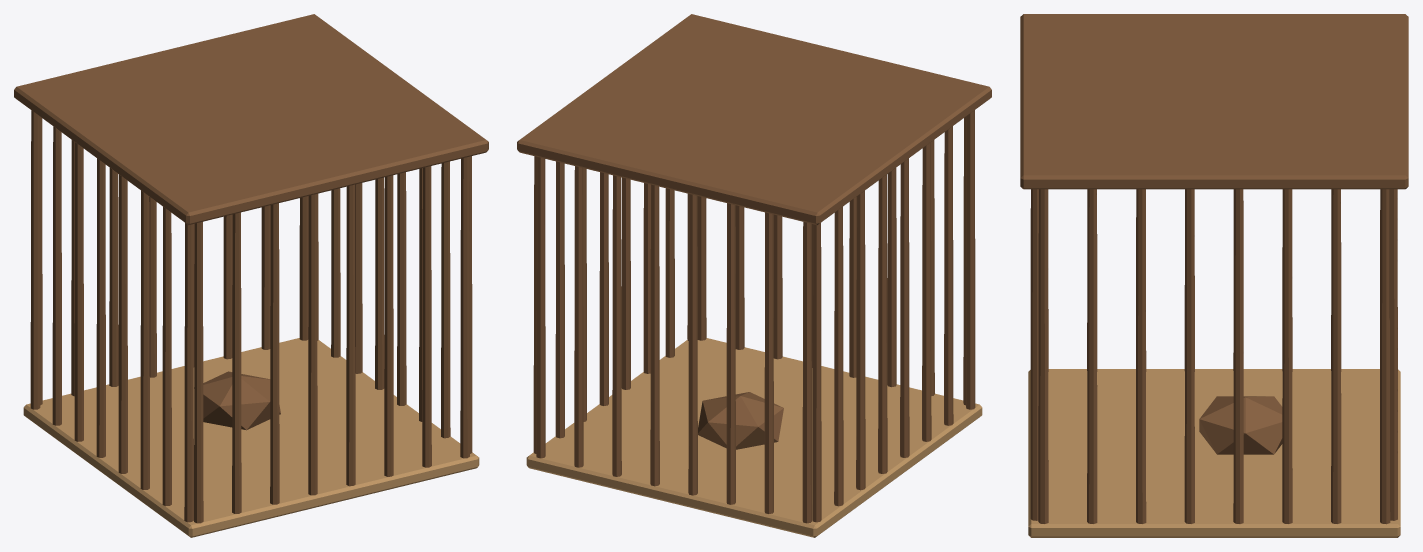
The model's file is CC_PrisonerCamp.fbx.
3 renders of one model, left to right at view 1: azimuth 30°, elevation 25°; view 2: azimuth 150°, elevation 25°; view 3: azimuth 270°, elevation 25°, orthographic. The views are drawn at different scales.
Visible parts, largest first — view 1: Cage roof, Cage floor, Cage bar.016, Cage bar.020, Cage bar.012, Stump seat, Cage bar.024, Cage bar.008, Cage bar.028, Cage bar.004, Cage bar, Cage bar.002 (+21 smaller); view 2: Cage roof, Cage floor, Stump seat, Cage bar.029, Cage bar.025, Cage bar.021, Cage bar.030, Cage bar.017, Cage bar.026, Cage bar.022, Cage bar.013, Cage bar.018 (+21 smaller); view 3: Cage roof, Cage floor, Stump seat, Cage bar.003, Cage bar.023, Cage bar.019, Cage bar.007, Cage bar.027, Cage bar.015, Cage bar.011, Cage bar.031, Cage bar.028 (+1 smaller).
Boxes of the visible parts, x1=… form: Cage roof: x1=14, y1=14, x2=488, y2=225; Cage floor: x1=23, y1=338, x2=479, y2=537; Cage bar.016: x1=346, y1=184, x2=355, y2=486; Cage bar.020: x1=384, y1=175, x2=393, y2=476; Cage bar.012: x1=308, y1=194, x2=317, y2=495; Stump seat: x1=194, y1=371, x2=280, y2=430; Cage bar.024: x1=422, y1=166, x2=431, y2=467; Cage bar.008: x1=270, y1=203, x2=279, y2=504; Cage bar.028: x1=460, y1=157, x2=469, y2=458; Cage bar.004: x1=232, y1=212, x2=241, y2=513; Cage bar: x1=194, y1=222, x2=203, y2=523; Cage bar.002: x1=184, y1=223, x2=193, y2=522; Cage roof: x1=517, y1=14, x2=991, y2=225; Cage floor: x1=526, y1=338, x2=982, y2=537; Stump seat: x1=698, y1=392, x2=783, y2=449; Cage bar.029: x1=536, y1=157, x2=545, y2=458; Cage bar.025: x1=574, y1=166, x2=583, y2=467; Cage bar.021: x1=612, y1=175, x2=621, y2=476; Cage bar.030: x1=812, y1=223, x2=821, y2=522; Cage bar.017: x1=650, y1=184, x2=659, y2=486; Cage bar.026: x1=834, y1=207, x2=843, y2=506; Cage bar.022: x1=856, y1=190, x2=865, y2=490; Cage bar.013: x1=688, y1=194, x2=697, y2=495; Cage bar.018: x1=878, y1=174, x2=887, y2=473; Cage roof: x1=1020, y1=14, x2=1408, y2=189; Cage floor: x1=1028, y1=369, x2=1400, y2=537; Stump seat: x1=1199, y1=396, x2=1282, y2=454; Cage bar.003: x1=1038, y1=189, x2=1048, y2=523; Cage bar.023: x1=1282, y1=189, x2=1292, y2=523; Cage bar.019: x1=1233, y1=189, x2=1243, y2=523; Cage bar.007: x1=1087, y1=189, x2=1097, y2=523; Cage bar.027: x1=1331, y1=189, x2=1341, y2=523; Cage bar.015: x1=1184, y1=189, x2=1194, y2=523; Cage bar.011: x1=1136, y1=189, x2=1146, y2=523; Cage bar.031: x1=1380, y1=189, x2=1390, y2=524; Cage bar.028: x1=1030, y1=189, x2=1038, y2=520.
Size of the model in its own units: 2.5 by 2.6 by 2.5.
